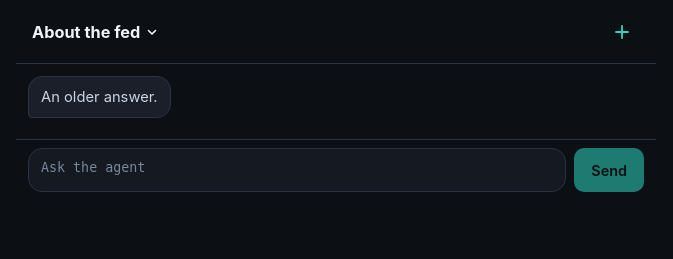
the agent screen › starts a new conversation without creating one nobody has written in
Expected: the text "An older answer." is shown, [41,86,158,108]
Click the button named "New conversation".
click(622, 32)  # box [600,10,644,54]
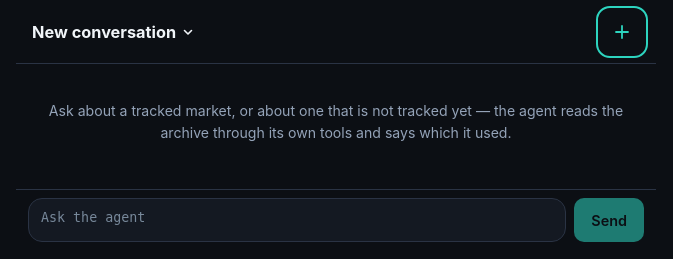
Now the text "An older answer." is gone
